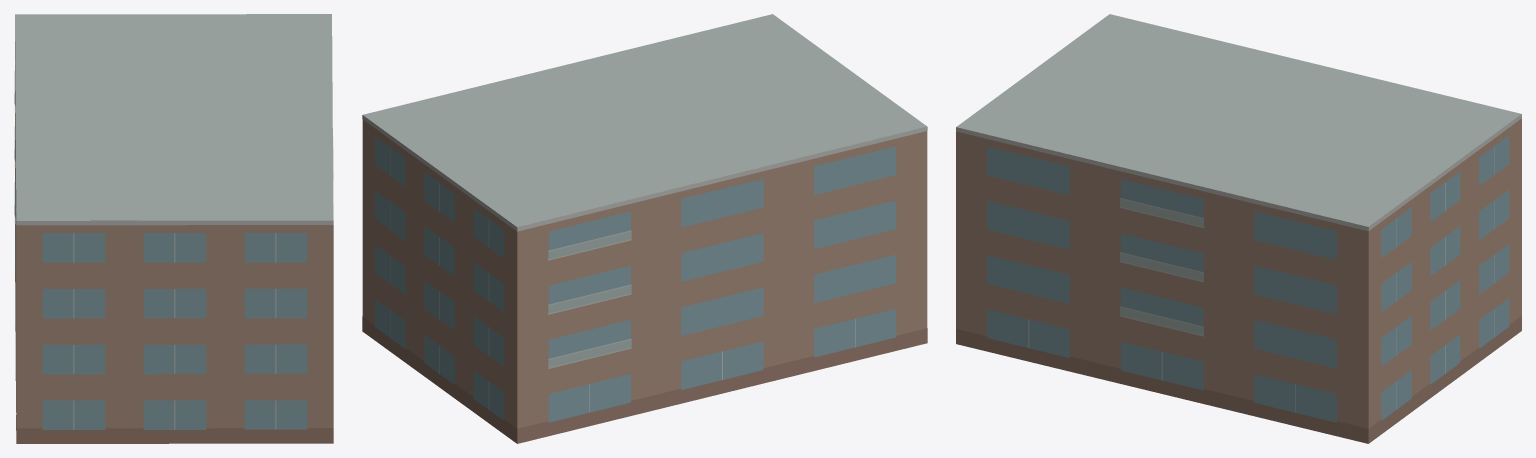
The model's file is residential-64cfd9f9-3f32-47ae-bd66-895662efa40f.glb.
3 views of the same model, side by side, from view 1: azimuth 30°, elevation 25°; view 2: azimuth 150°, elevation 25°; view 3: azimuth 270°, elevation 25° (orthographic). The views are drawn at different scales.
Parts seen in each view (by area): view 1: residential-64cfd9f9-3f32-47ae-bd66-895662efa40f.tmp; view 2: residential-64cfd9f9-3f32-47ae-bd66-895662efa40f.tmp; view 3: residential-64cfd9f9-3f32-47ae-bd66-895662efa40f.tmp.
Boxes of the visible parts, x1,y1,x2,y2 form: residential-64cfd9f9-3f32-47ae-bd66-895662efa40f.tmp: (14,14,333,443); residential-64cfd9f9-3f32-47ae-bd66-895662efa40f.tmp: (362,14,927,443); residential-64cfd9f9-3f32-47ae-bd66-895662efa40f.tmp: (956,14,1521,443).
Bounding box in the file's own units: 25.69 × 12.2 × 28.84.
